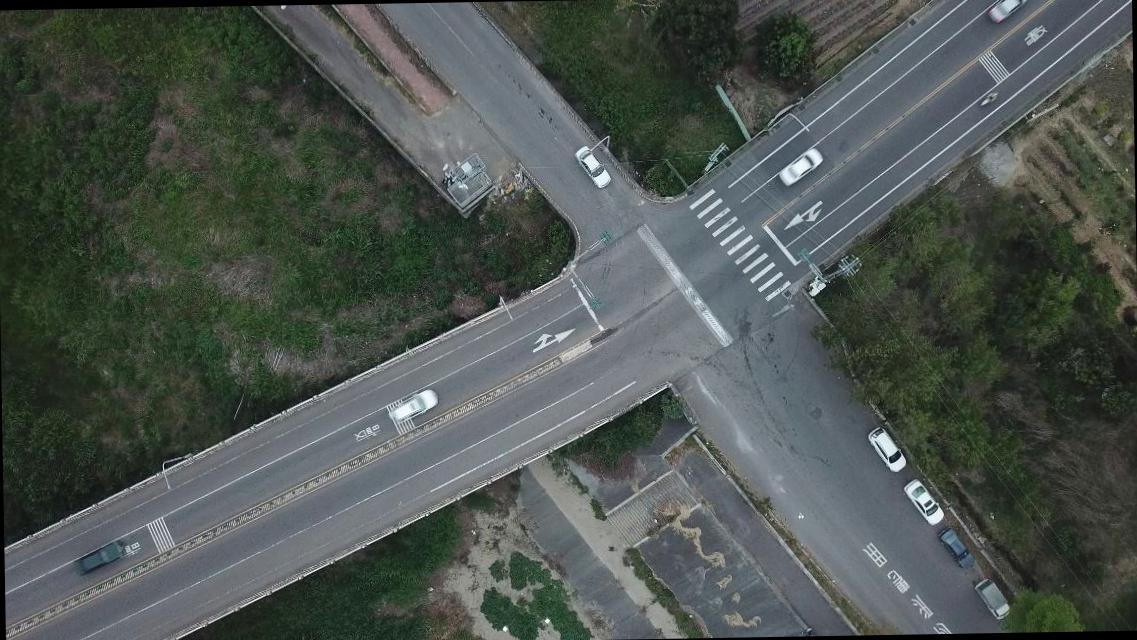vehicle: (902, 478, 946, 526), (388, 388, 442, 425), (867, 424, 906, 475), (574, 143, 615, 189), (72, 540, 126, 574), (939, 526, 978, 570), (779, 146, 824, 184), (974, 576, 1010, 618), (984, 0, 1031, 25)
